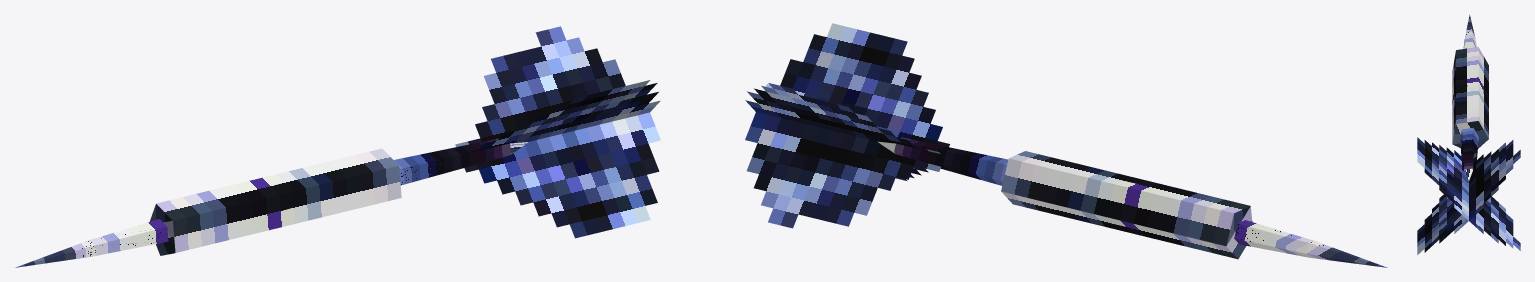
File: DartArrow01.fbx
The picture shows the model from 3 angles, left to right: view 1: azimuth 30°, elevation 25°; view 2: azimuth 150°, elevation 25°; view 3: azimuth 270°, elevation 25°; orthographic projection. The views are drawn at different scales.
Visible parts, largest first — view 1: DartArrow01; view 2: DartArrow01; view 3: DartArrow01.
Boxes of the visible parts, <box> form: DartArrow01: <box>15,26,660,267</box>; DartArrow01: <box>745,23,1387,267</box>; DartArrow01: <box>1417,14,1520,254</box>.
Size of the model in its own units: 71.28 by 15.03 by 15.03.
